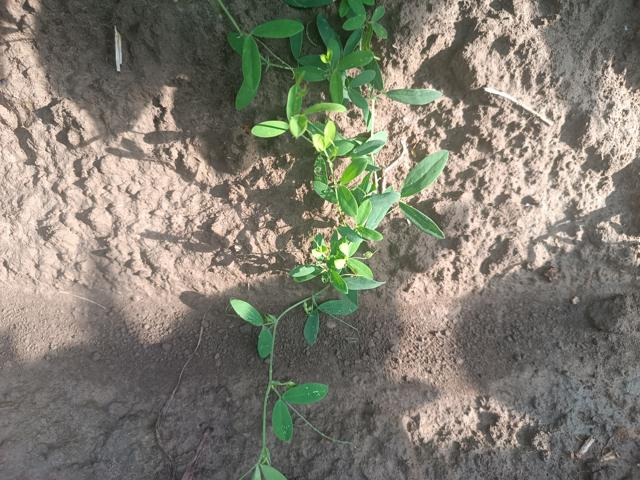bad weed: (180, 0, 450, 466)
